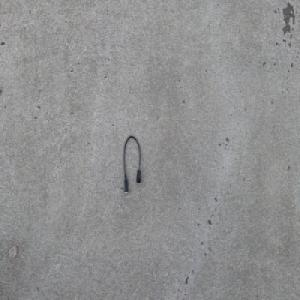Wire: (123, 134, 141, 195)
